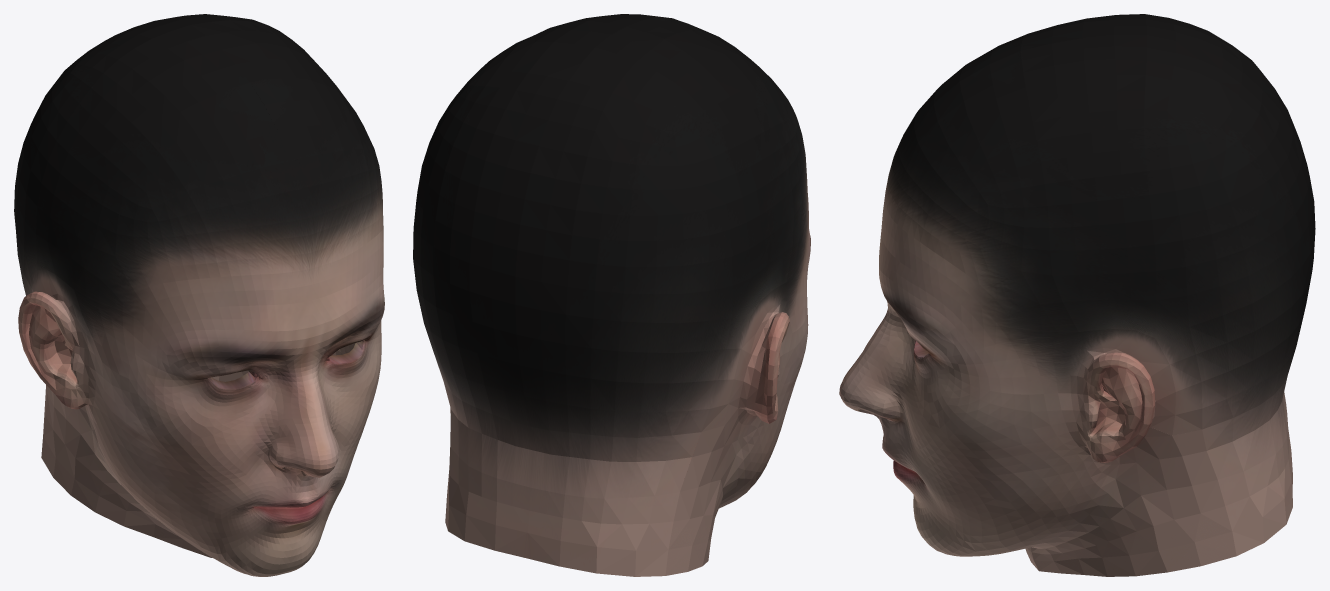
The model's file is MeInGame.obj.
3 renders of one model, left to right at view 1: azimuth 30°, elevation 25°; view 2: azimuth 150°, elevation 25°; view 3: azimuth 270°, elevation 25°, orthographic. The views are drawn at different scales.
Size of the model in its own units: 13.88 by 19.67 by 16.02.
